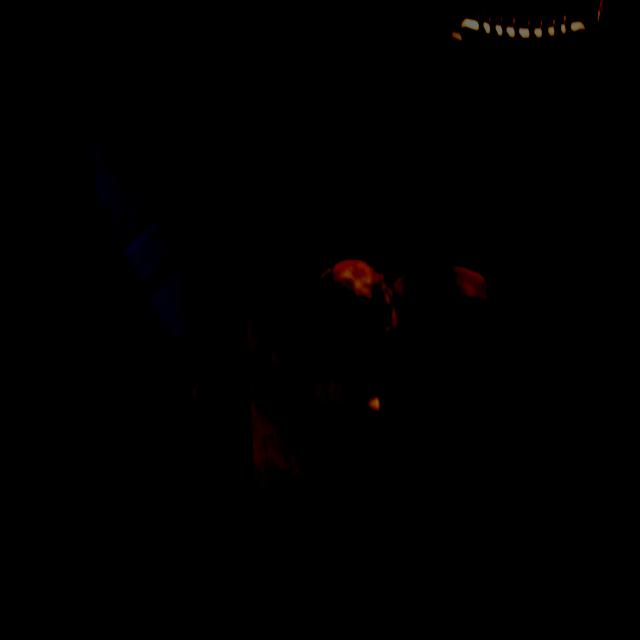Dog: (314, 228, 584, 550)
